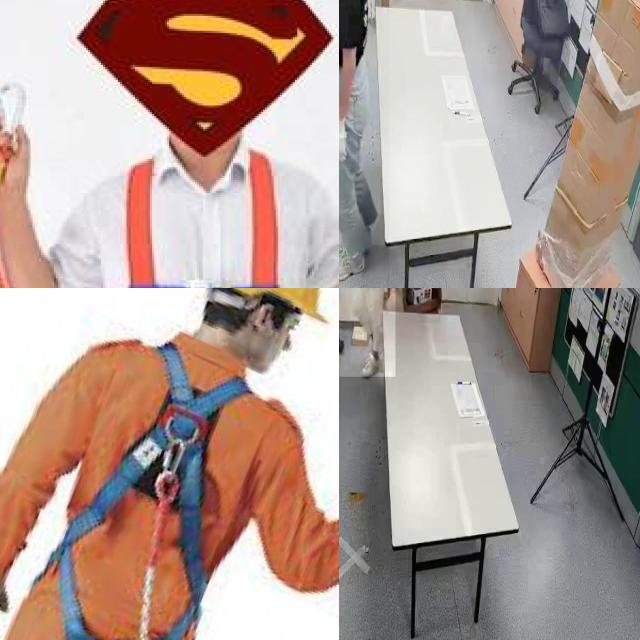Harness: (35, 342, 251, 640), (92, 139, 314, 288)
hand_glove: (339, 106, 358, 170)
person: (339, 0, 390, 288), (339, 288, 396, 377)
shoes: (339, 236, 367, 284), (355, 346, 381, 386)
